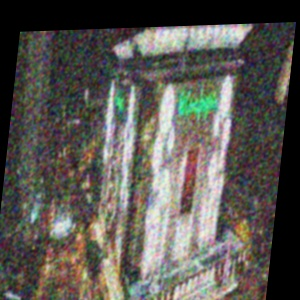corte_ingles: (77, 84, 289, 151), (76, 51, 184, 103)
